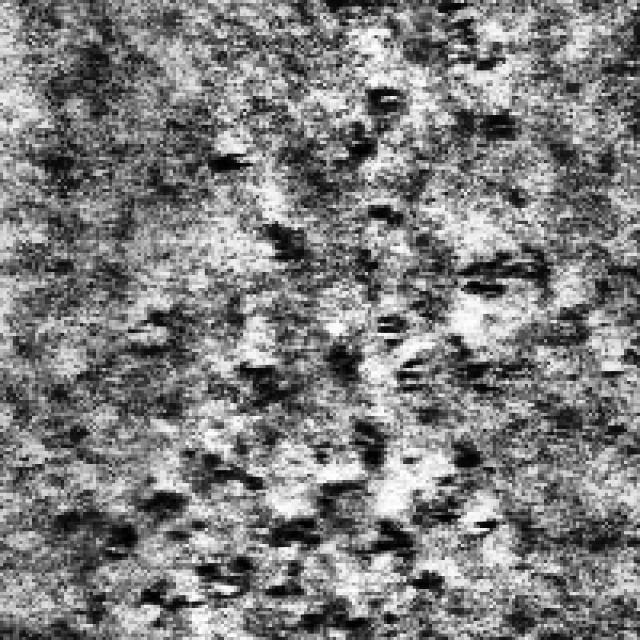Crazing: (96, 288, 512, 637), (346, 0, 512, 157)
